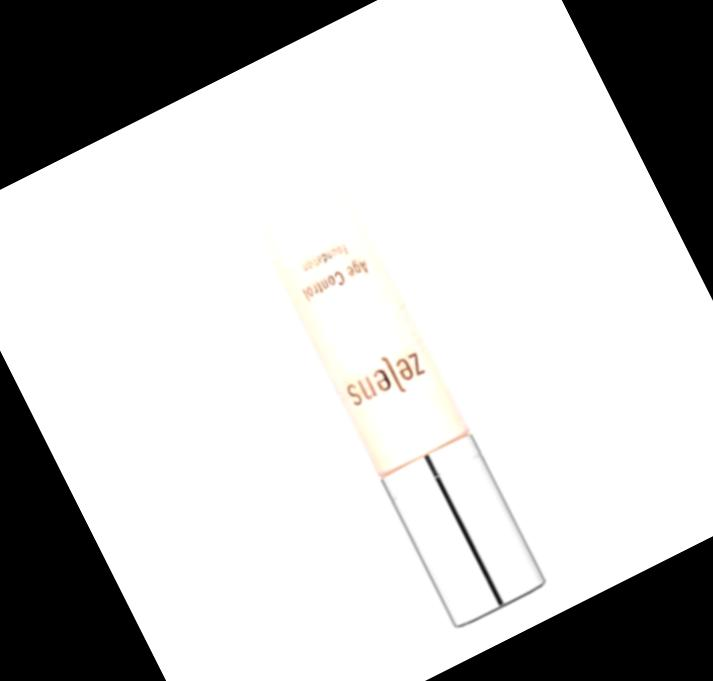cosmetic: (193, 67, 550, 634)
